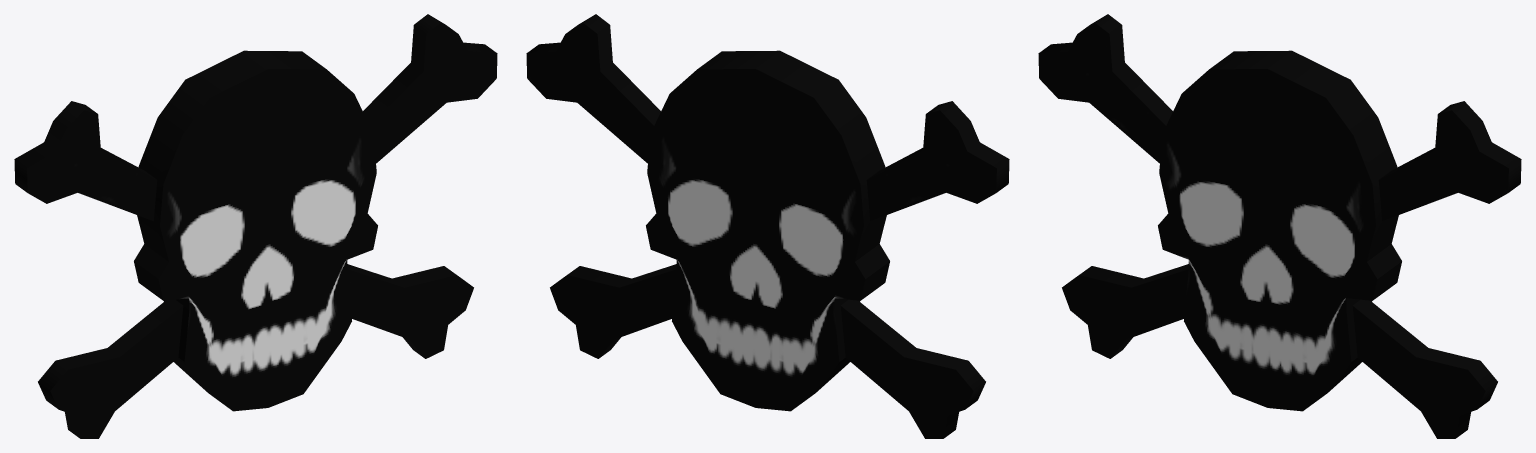
Rendered from GAM0110020.fbx.
The picture shows the model from 3 angles, left to right: view 1: azimuth 30°, elevation 25°; view 2: azimuth 150°, elevation 25°; view 3: azimuth 330°, elevation 25°; orthographic projection.
Parts seen in each view (by area): view 1: smGAM0110020; view 2: smGAM0110020; view 3: smGAM0110020.
Part boxes in pixels (x1,y1,x2,y2): smGAM0110020: [14, 14, 497, 438]; smGAM0110020: [526, 14, 1009, 438]; smGAM0110020: [1038, 14, 1521, 438].
Size of the model in its own units: 61.93 by 42.65 by 5.64.
1 material, 1 textured.
